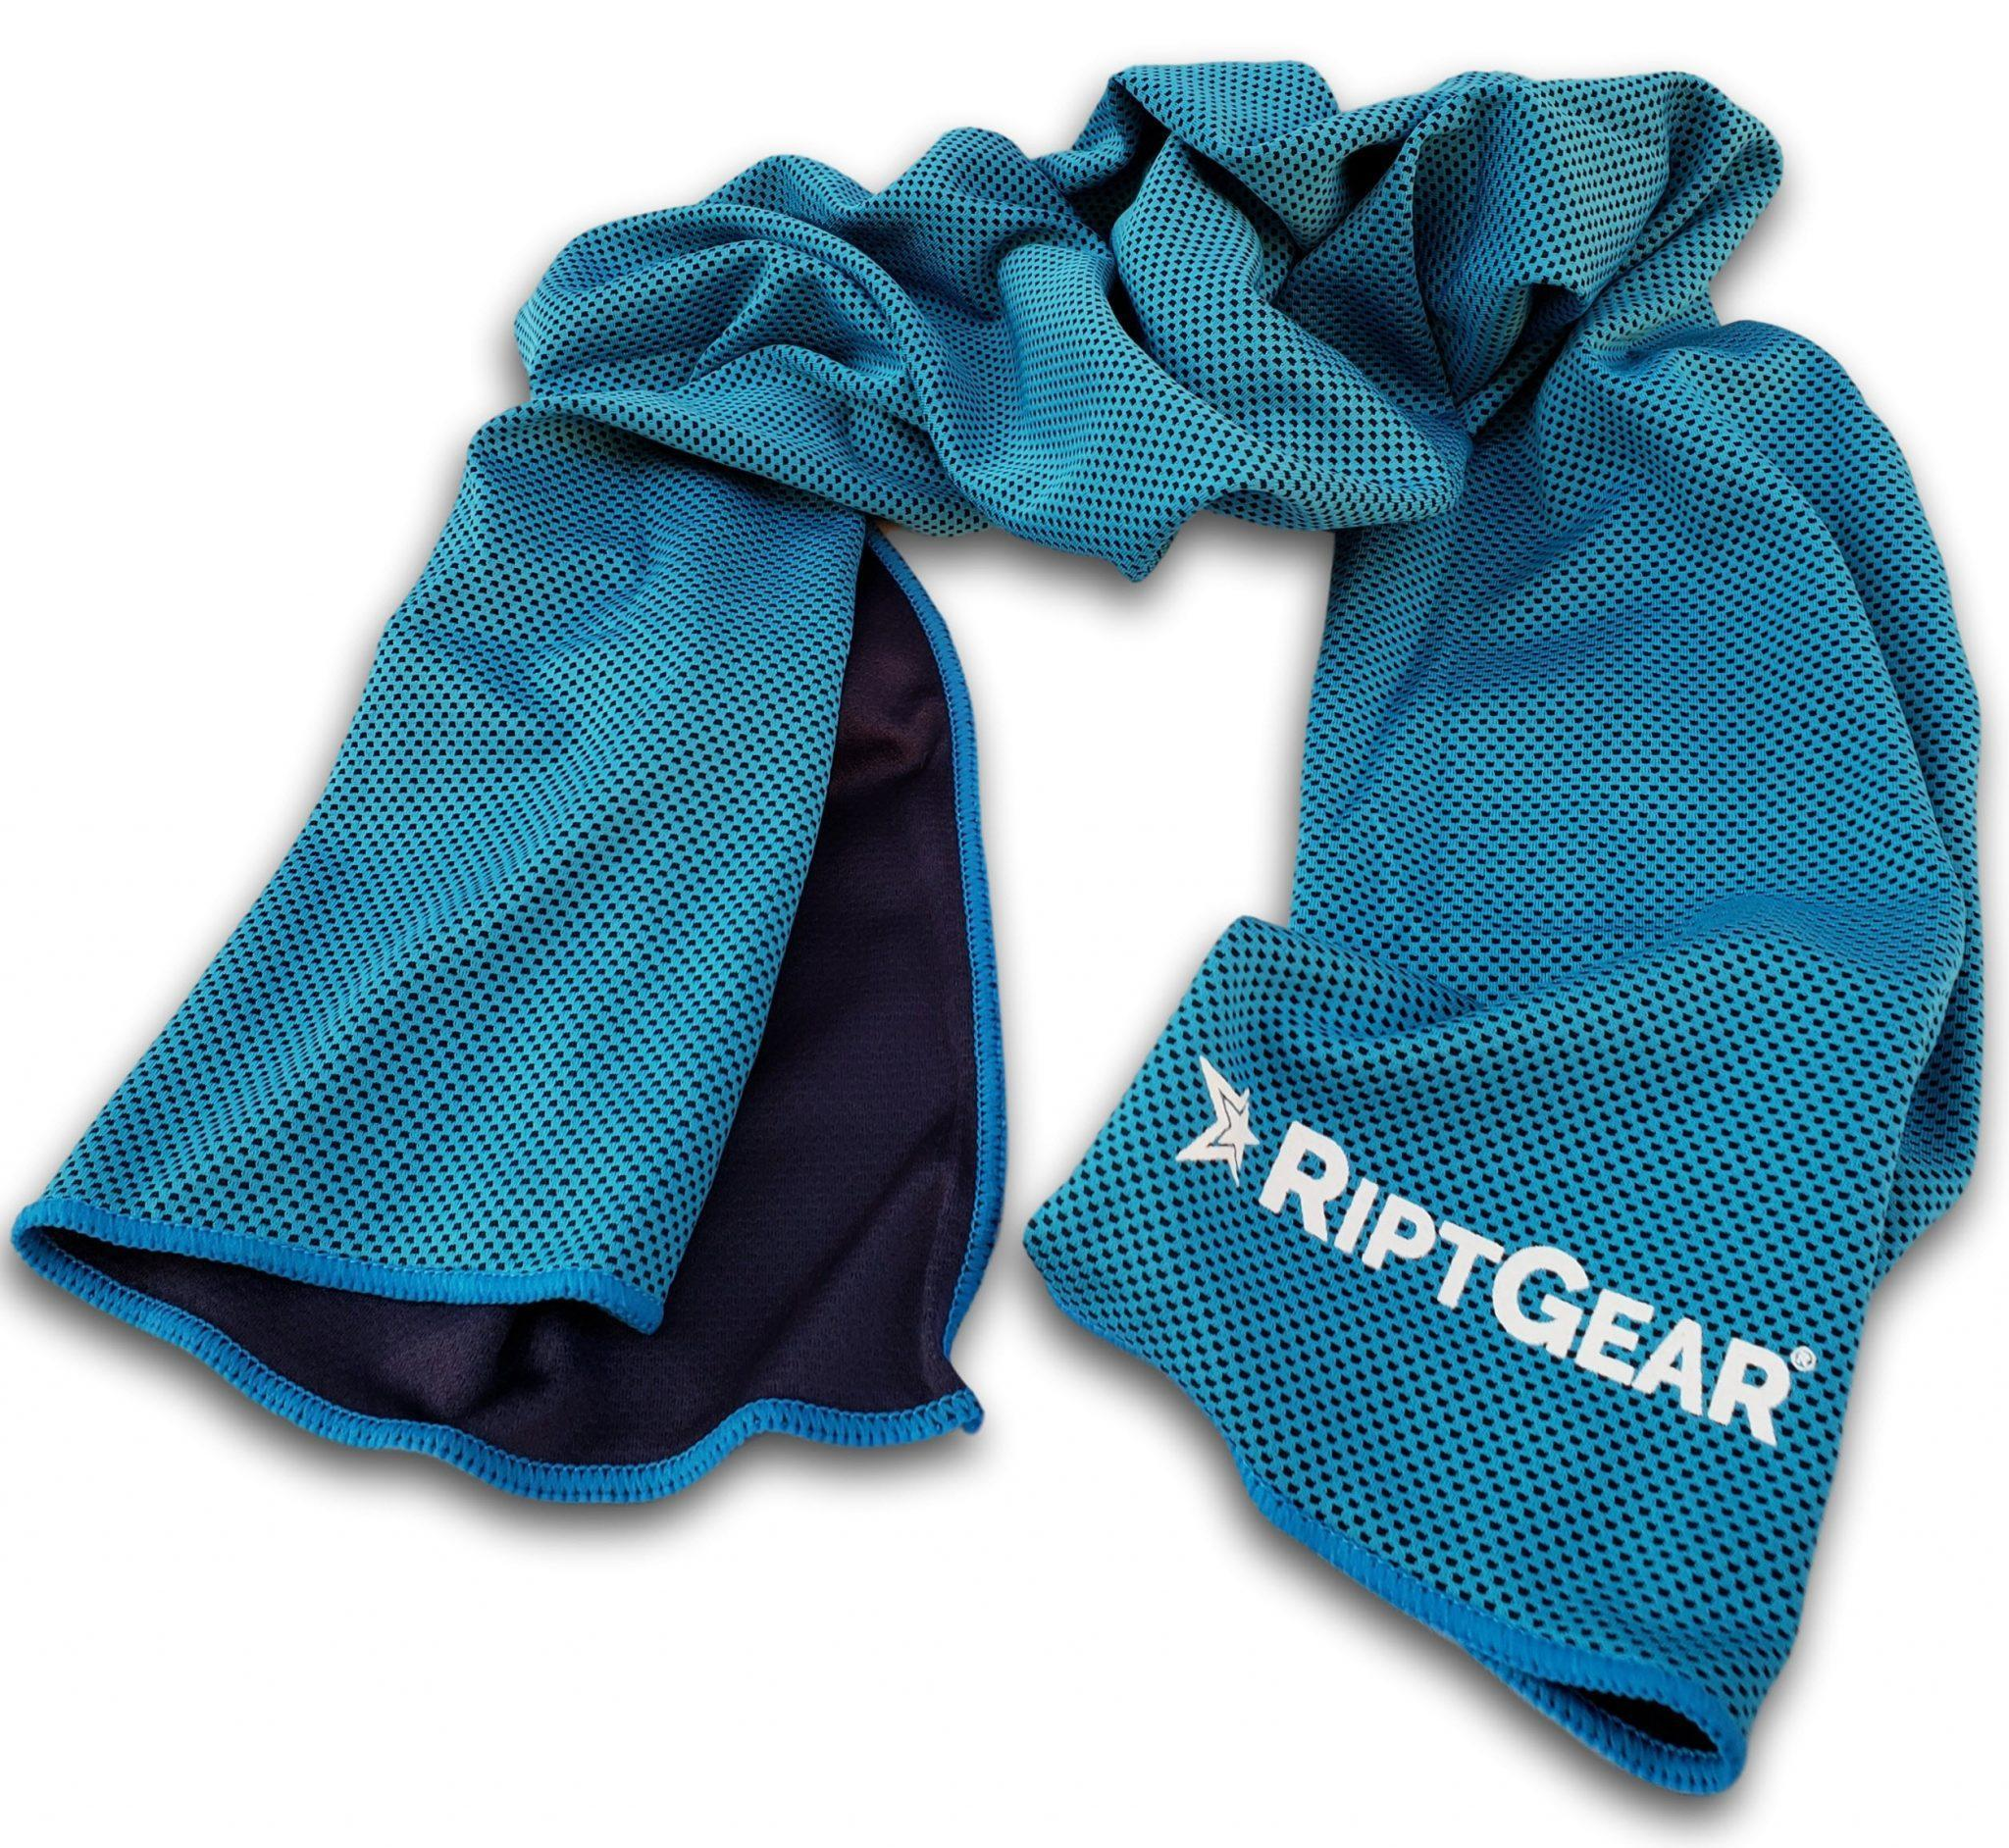towel: (261, 38, 1900, 579)
